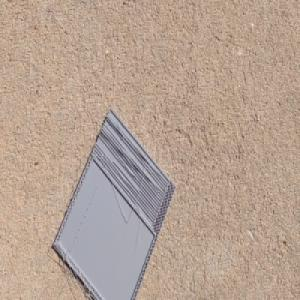PlasticPart: (50, 107, 176, 300)
